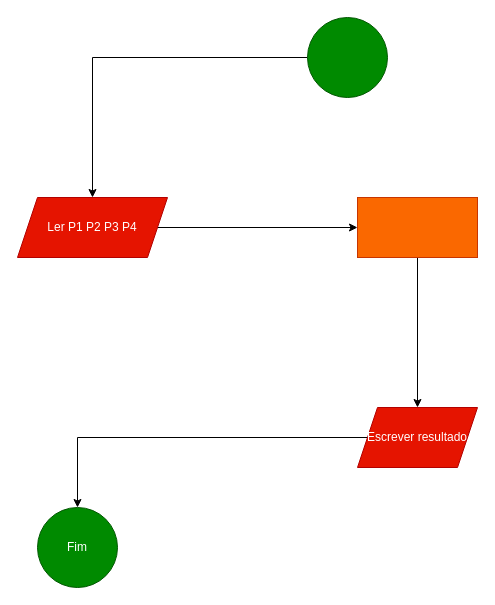
Image size: 495x605. Some labels were removed from this diagram. Each missing label, with the box of its shape:
(P1+P2+P3+P4)/4: (356, 196, 478, 258)
Inicio: (306, 16, 388, 98)
